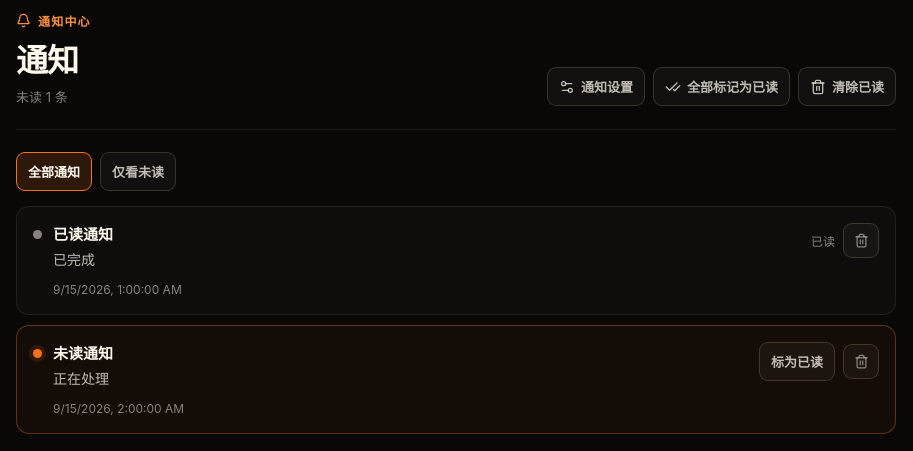
Test: 通知中心 › 支持全部与未读筛选，并仅将筛选条件交给 Go 当前会话接口
Expected: the heading "已读通知" is shown, [53,225,113,244]
Click the button "仅看未读".
click(138, 172)  # box [100,152,176,191]
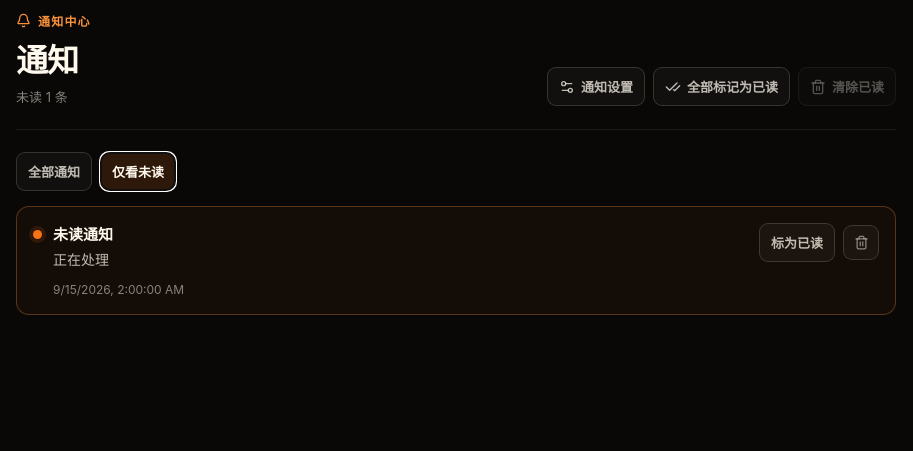
Expected: the heading "未读通知" is shown, [53,225,113,244]
Result: the heading "已读通知" is gone
